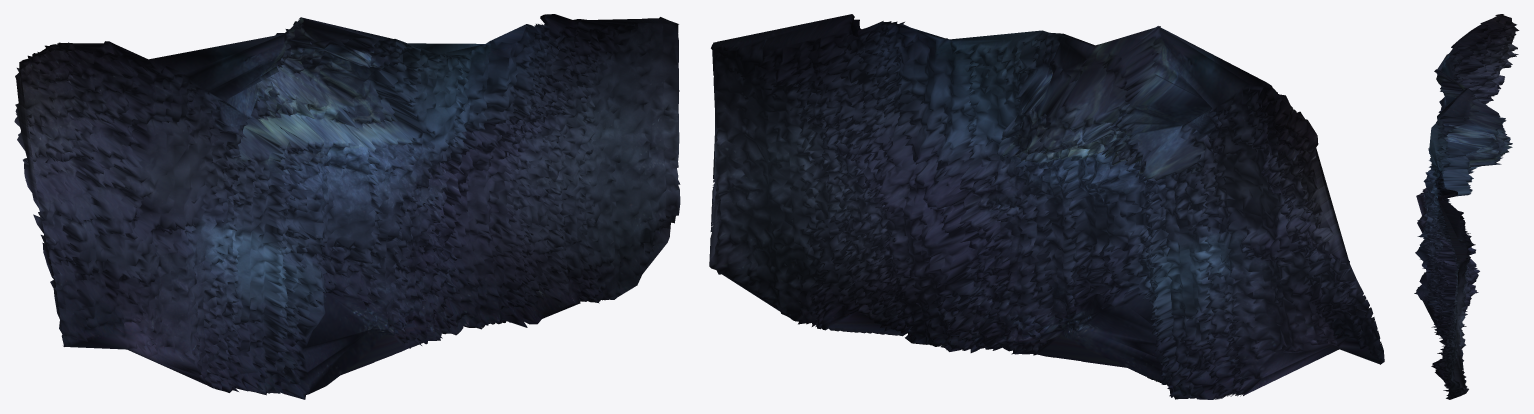
The model's file is 3dRec.obj.
3 renders of one model, left to right at view 1: azimuth 30°, elevation 25°; view 2: azimuth 150°, elevation 25°; view 3: azimuth 270°, elevation 25°, orthographic. The views are drawn at different scales.
Bounding box in the file's own units: 25.33 × 13.69 × 5.84.
1 material, 1 textured.
